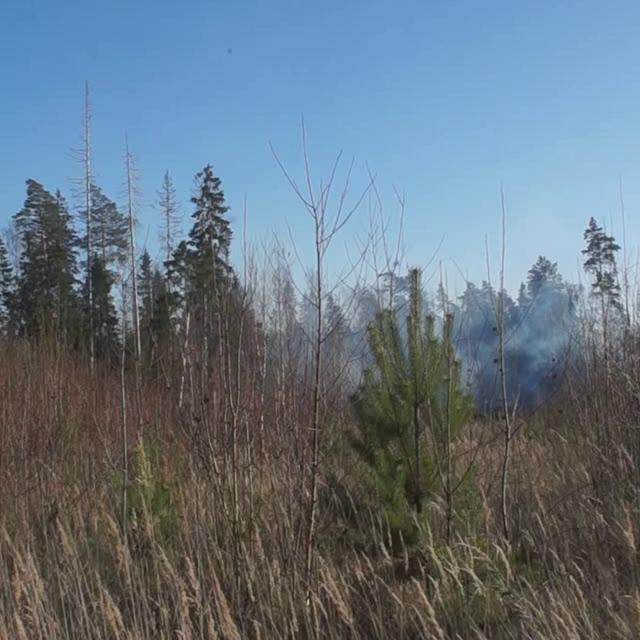Smoke: (300, 282, 584, 418)
